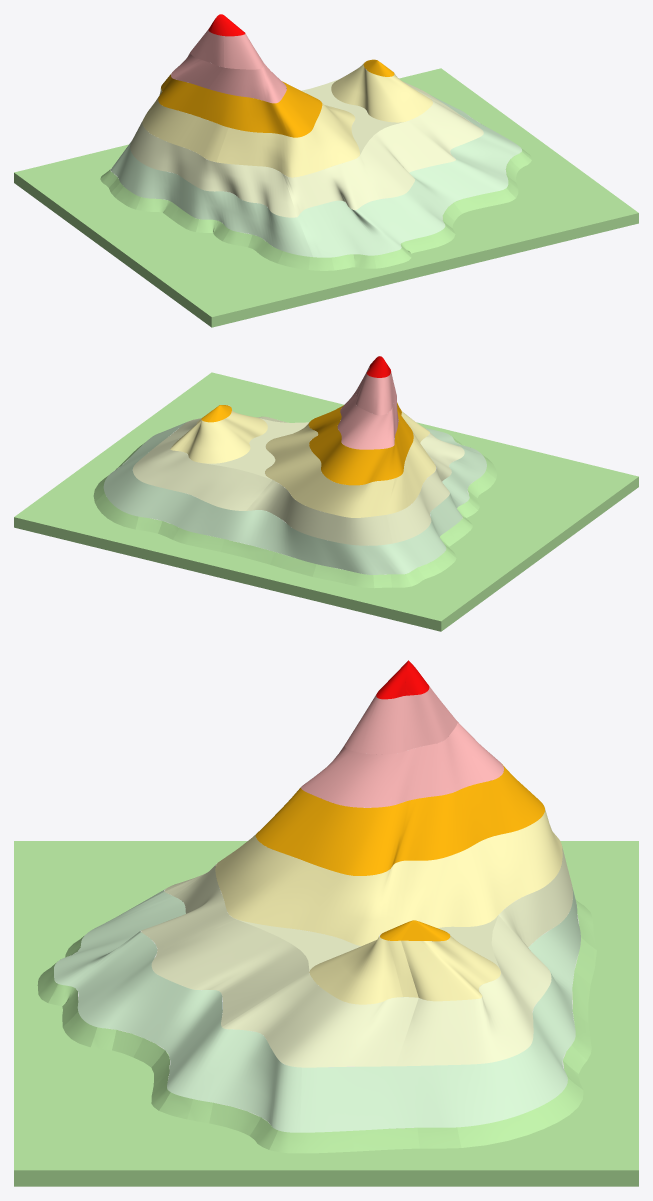
Rendered from hill.glb.
3 renders of one model, top to bottom at view 1: azimuth 30°, elevation 25°; view 2: azimuth 150°, elevation 25°; view 3: azimuth 270°, elevation 25°, orthographic. The views are drawn at different scales.
Visible parts, largest first — view 1: 物件_20, 物件_1, 物件_4, 物件_9, 物件_12, 物件_10, 物件_8, 物件_11, 物件_3, 物件_7, 物件_22; view 2: 物件_20, 物件_1, 物件_4, 物件_9, 物件_12, 物件_10, 物件_8, 物件_11, 物件_7, 物件_3; view 3: 物件_20, 物件_1, 物件_4, 物件_9, 物件_12, 物件_10, 物件_8, 物件_11, 物件_3, 物件_7, 物件_22, 物件_2.
Part boxes in pixels (box(x1,y1,x2,y2)): 物件_20: box(14, 68, 638, 327); 物件_1: box(110, 95, 521, 257); 物件_4: box(130, 81, 483, 217); 物件_9: box(142, 88, 359, 177); 物件_12: box(100, 148, 531, 270); 物件_10: box(158, 74, 322, 137); 物件_8: box(331, 63, 432, 122); 物件_11: box(171, 52, 286, 103); 物件_3: box(190, 29, 263, 69); 物件_7: box(262, 79, 403, 166); 物件_22: box(208, 14, 245, 36); 物件_20: box(14, 372, 638, 631); 物件_1: box(103, 422, 486, 574); 物件_4: box(132, 416, 464, 545); 物件_9: box(265, 411, 435, 517); 物件_12: box(93, 437, 496, 588); 物件_10: box(308, 402, 413, 485); 物件_8: box(170, 410, 267, 463); 物件_11: box(337, 391, 398, 449); 物件_7: box(186, 418, 308, 479); 物件_3: box(355, 366, 396, 415); 物件_20: box(14, 841, 638, 1186); 物件_1: box(54, 887, 580, 1132); 物件_4: box(141, 846, 572, 1067); 物件_9: box(215, 809, 562, 946); 物件_12: box(37, 900, 596, 1153); 物件_10: box(255, 764, 544, 875); 物件_8: box(309, 935, 500, 1004); 物件_11: box(301, 721, 503, 807); 物件_3: box(344, 686, 457, 754); 物件_7: box(237, 907, 506, 997); 物件_22: box(376, 660, 429, 699); 物件_2: box(380, 920, 450, 941).
Size of the model in its own units: 0.0492 by 0.0208 by 0.0394.
